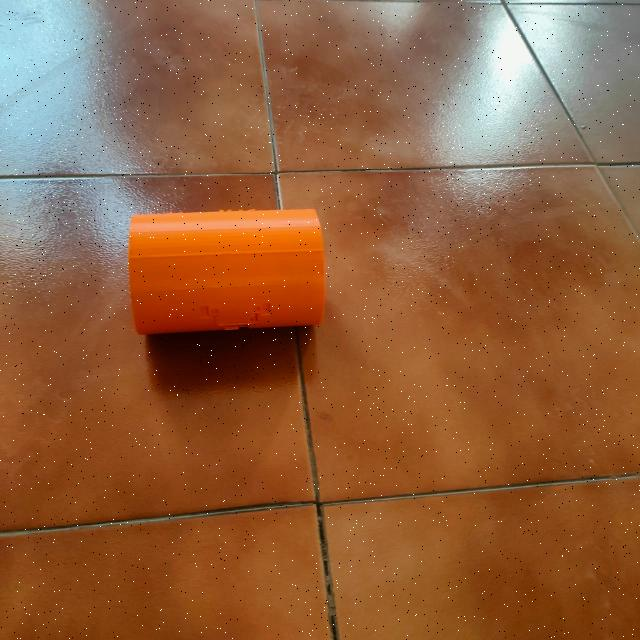Cylinder: (128, 207, 326, 336)
